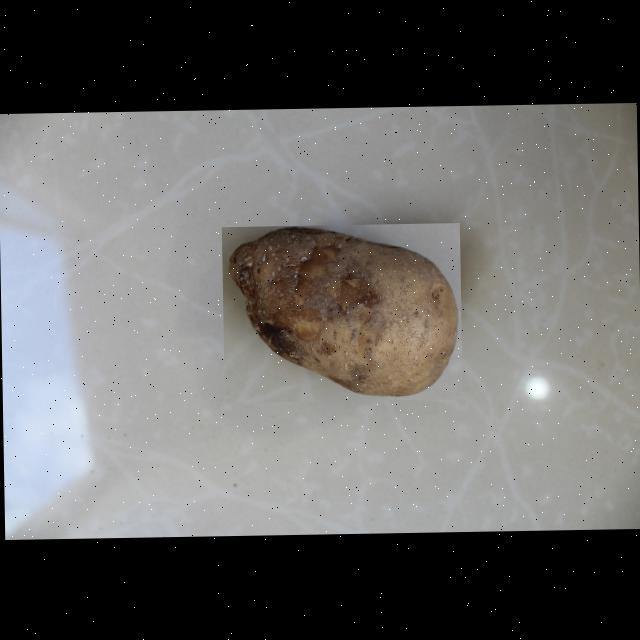Diseased-fungal potato: (220, 222, 462, 402)
